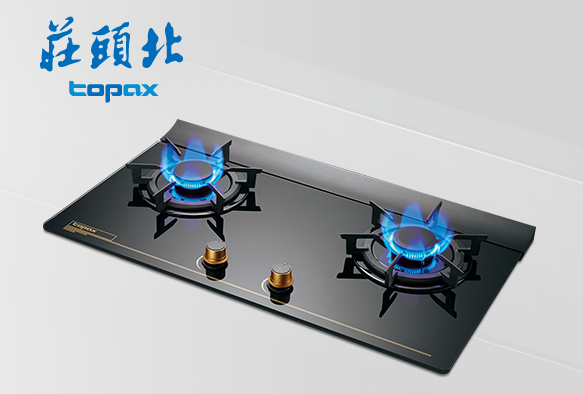gasoven: (19, 106, 540, 381)
